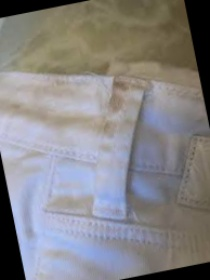earth: (43, 108, 79, 133), (106, 84, 131, 115), (88, 116, 115, 141), (0, 101, 24, 120)
